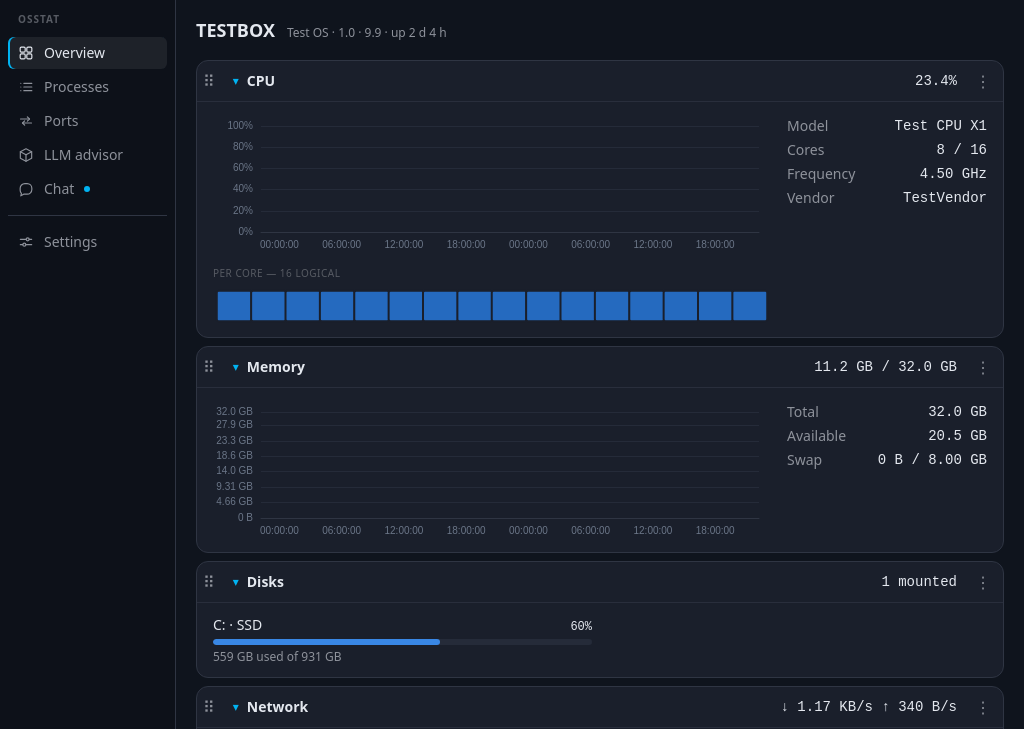
Test case: App › expands a process to reveal its children
expect the heading "TESTBOX" is shown: met, box [196,16,275,44]
Click the button titled "Processes".
click(88, 87)  # box [8,71,167,103]
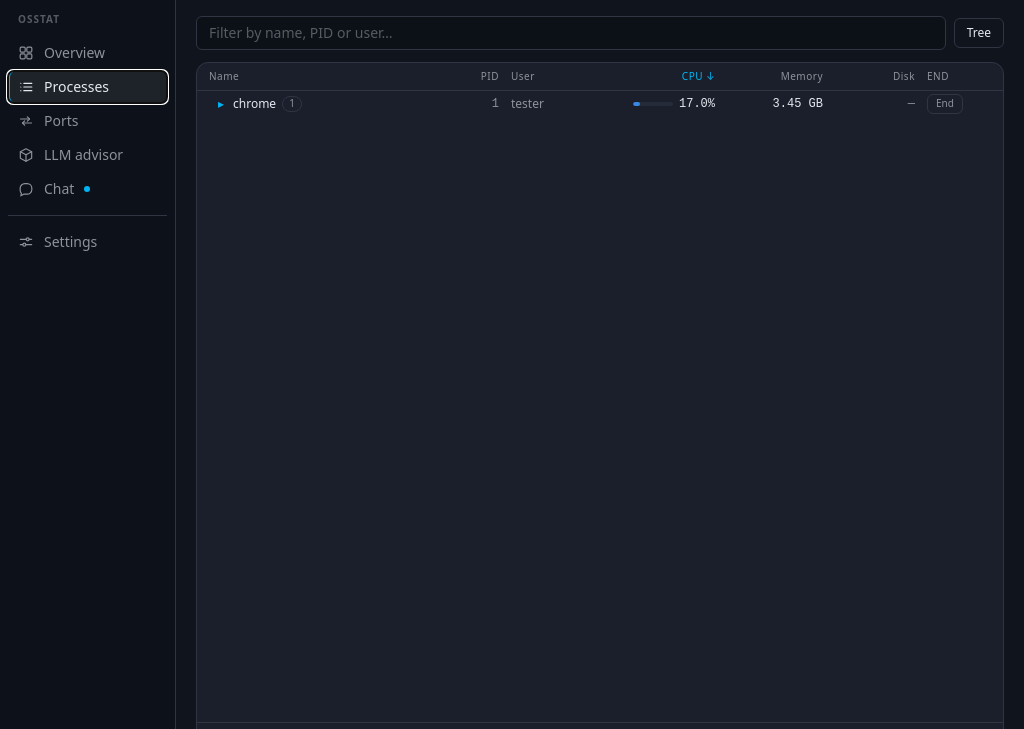
expect the text "renderer" is not shown: met
expect the text "chrome" is shown: met, box [233,96,276,112]
Click the button named "Expand chrome".
click(221, 104)  # box [215,96,227,112]
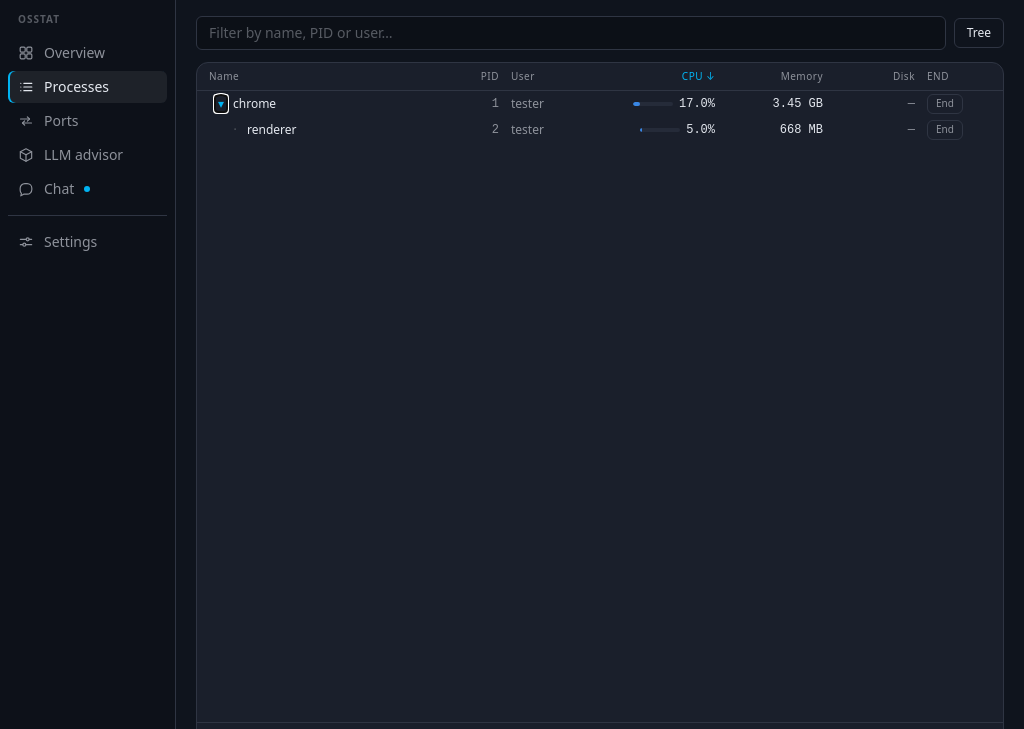
expect the text "renderer" is shown: met, box [247,122,296,138]
